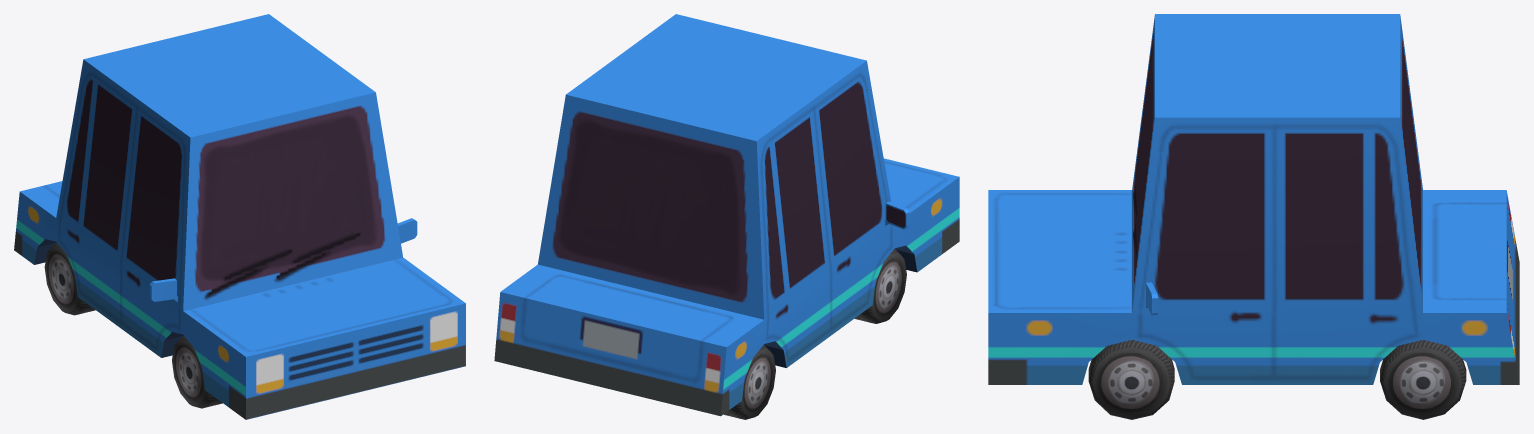
Rendered from Low_Poly_Car_V3.glb.
The picture shows the model from 3 angles, left to right: view 1: azimuth 30°, elevation 25°; view 2: azimuth 150°, elevation 25°; view 3: azimuth 270°, elevation 25°; orthographic projection. The views are drawn at different scales.
Visible parts, largest first — view 1: car03__0, wheel_4__0, wheel_3__0; view 2: car03__0, wheel_3__0, wheel_4__0; view 3: car03__0, wheel_2__0, wheel__0.
Boxes of the visible parts, left/top/right/bottom form: car03__0: left=14, top=14, right=465, bottom=419; wheel_4__0: left=44, top=242, right=95, bottom=315; wheel_3__0: left=172, top=336, right=222, bottom=408; car03__0: left=494, top=14, right=959, bottom=416; wheel_3__0: left=854, top=249, right=906, bottom=323; wheel_4__0: left=723, top=345, right=775, bottom=419; car03__0: left=988, top=14, right=1519, bottom=384; wheel_2__0: left=1088, top=340, right=1174, bottom=419; wheel__0: left=1380, top=340, right=1466, bottom=419.
Bounding box in the file's own units: 2.42 × 2.25 × 3.65.
1 material, 1 textured.
